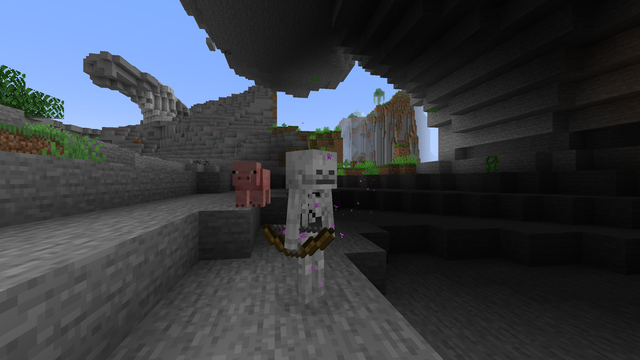cochons: (231, 167, 271, 206)
squelettes: (288, 150, 337, 310)
